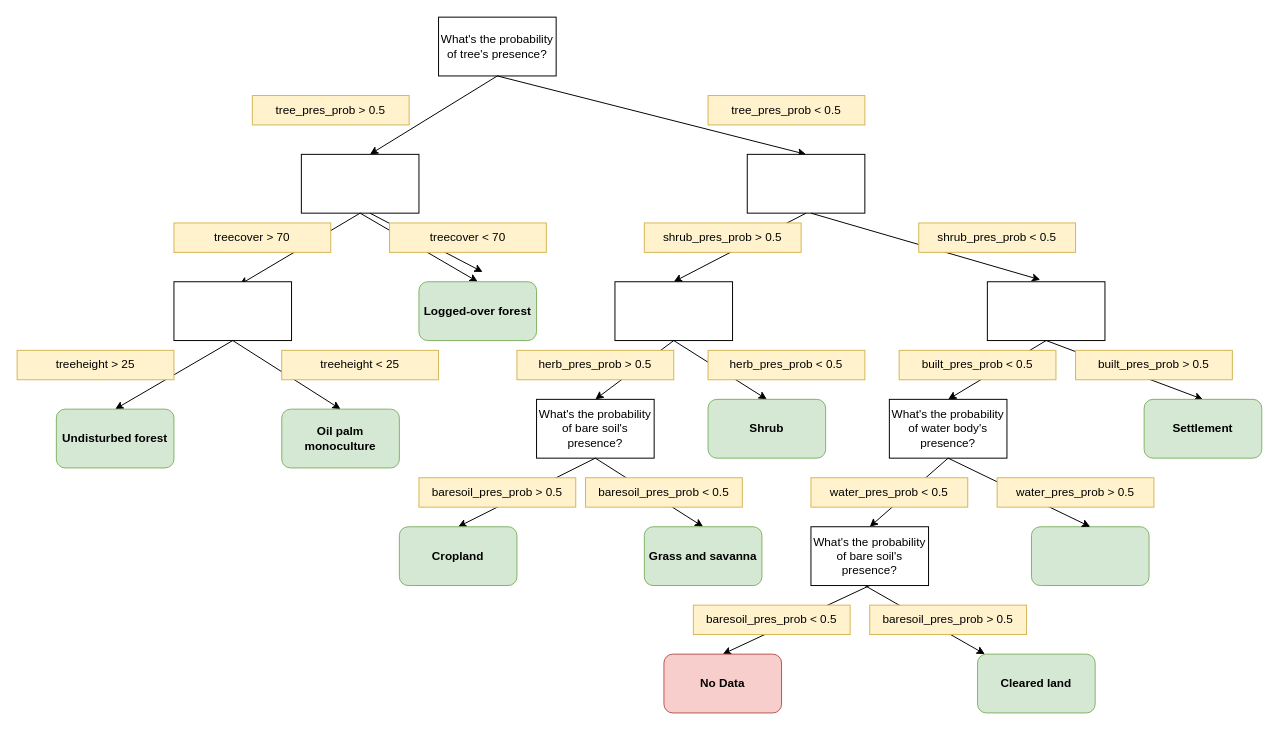
Some shapes in this 1279 by 730 pixel diagram are drawn without their labels. Here are the shapes that lost their labels. From the top down, the centre of each, then its label:
point (359, 183): What's the tree canopy cover?
point (805, 183): What is the probability of shrub's presence?
point (232, 311): What is the average tree's height?
point (673, 311): What's the probability of herb's presence?
point (1045, 311): What's the probability of built up's presence?
point (1089, 556): Water body
